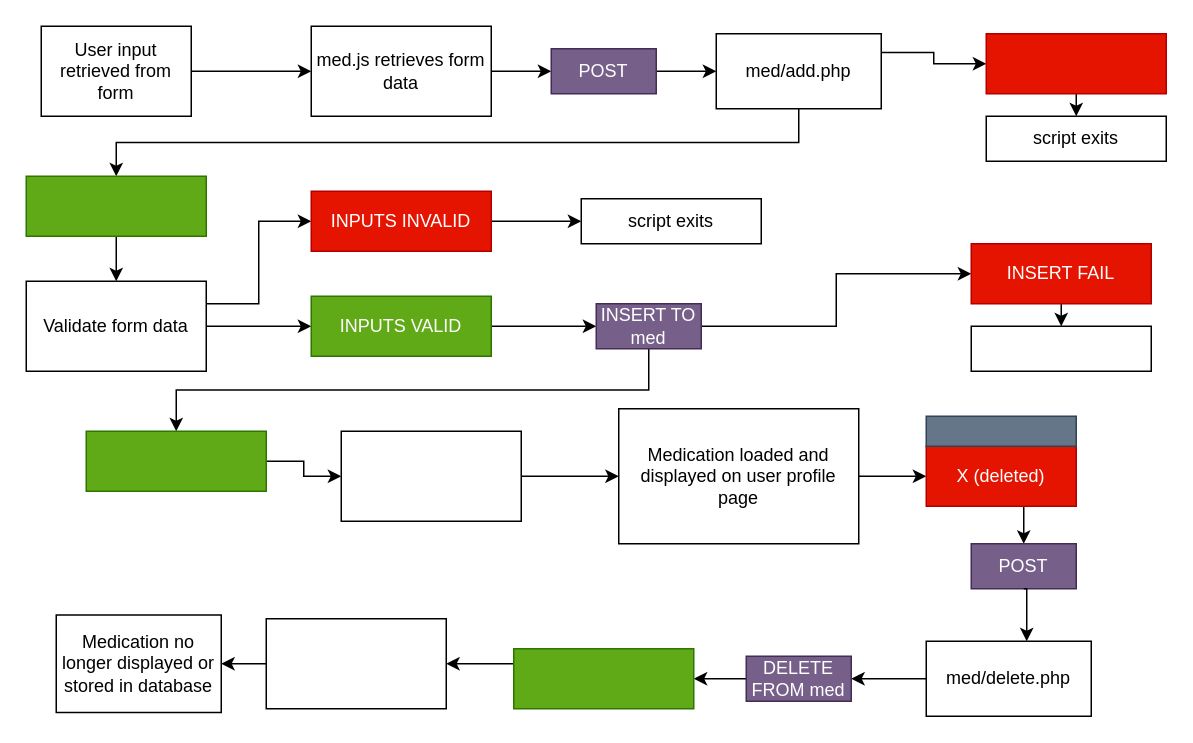
The diagram is 1193 pixels wide and 743 high, and some of its shapes have lost their labels. Here are the shapes that lost their labels. From the top down, the centre of each, then its label:
pixel 1075 63: SESSION INVALID
pixel 115 205: SESSION VALID
pixel 1060 348: SQL error
pixel 1000 430: optional
pixel 175 460: INSERT SUCCESSFUL
pixel 430 475: "Medication added successfully" alerted to user
pixel 355 663: "Medication deleted successfully" alerted to user
pixel 603 678: DELETE SUCCESSFUL
